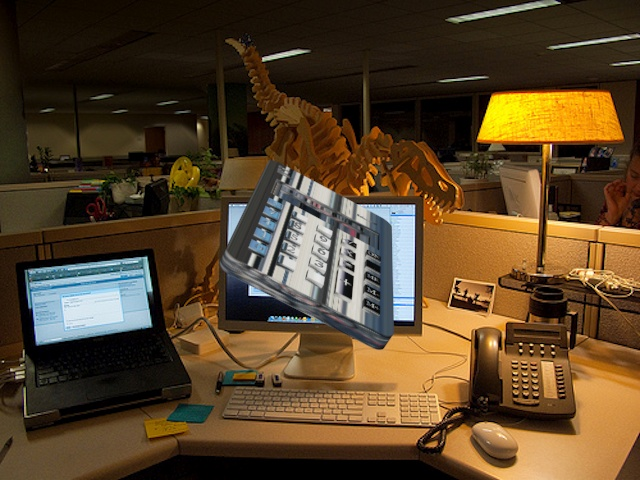calculator: (209, 161, 400, 353)
